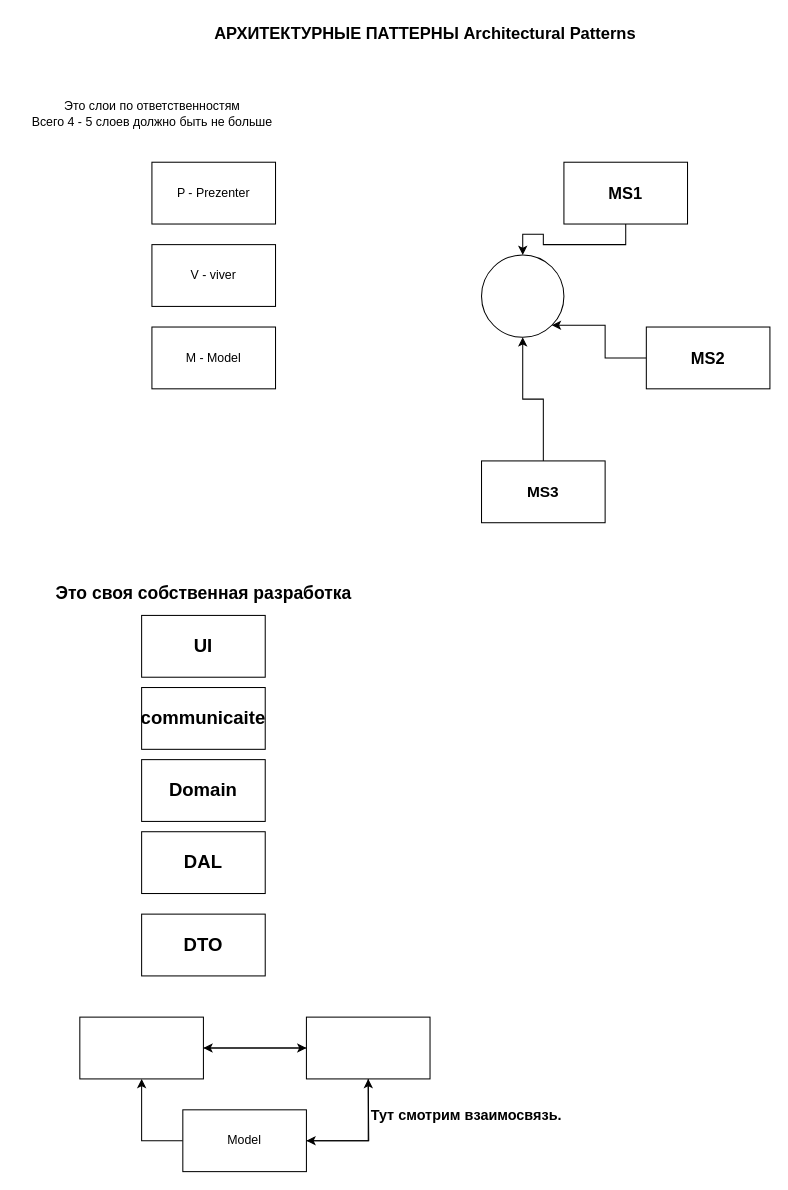
Image size: 788x1190. Some labels were removed from this diagram. Here are the shapes that lost their labels. From the top down, the centre of each, then its label:
At point 522,295: "Architektor".
At point 141,1047: "View".
At point 367,1047: "Controller".
